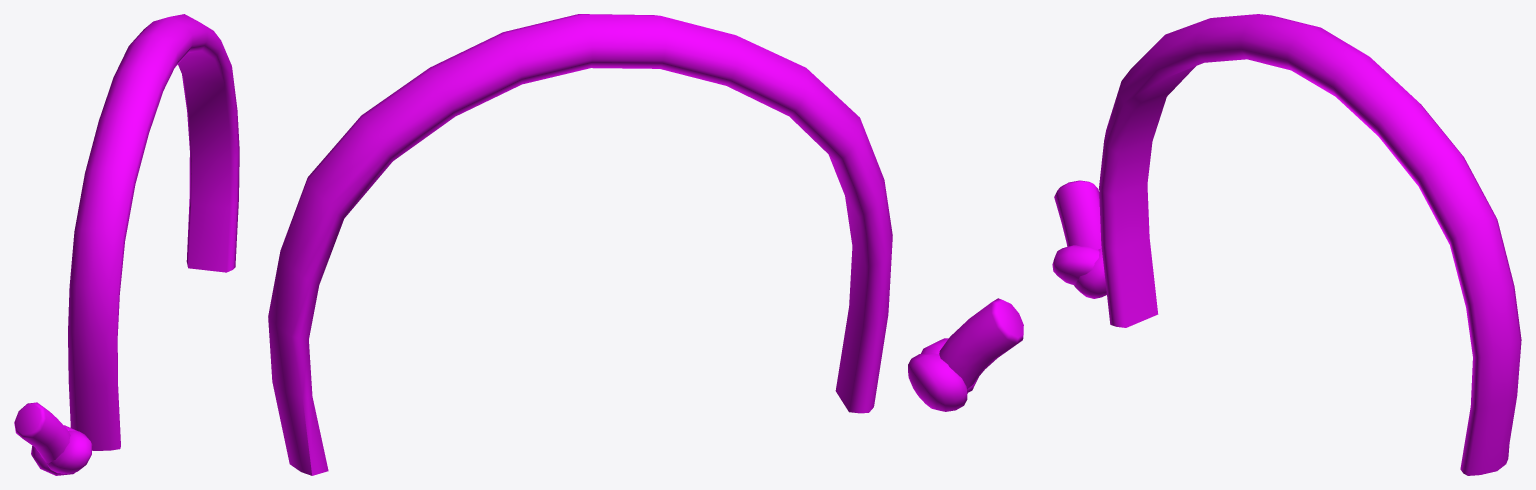
File: tiedModelRightBig.glb
3 views of the same model, side by side, from view 1: azimuth 30°, elevation 25°; view 2: azimuth 150°, elevation 25°; view 3: azimuth 270°, elevation 25° (orthographic). The views are drawn at different scales.
Visible parts, largest first — view 1: tiedModelRightBig; view 2: tiedModelRightBig; view 3: tiedModelRightBig.
Part boxes in pixels (left/top/right/bottom): tiedModelRightBig: left=14, top=14, right=239, bottom=475; tiedModelRightBig: left=268, top=14, right=1023, bottom=475; tiedModelRightBig: left=1052, top=14, right=1521, bottom=475.
Bounding box in the file's own units: 1.83 × 1.43 × 1.64.
